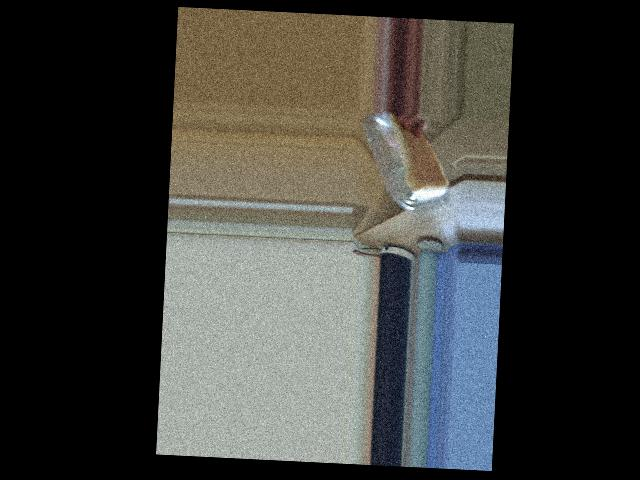cheese: (374, 146, 440, 203)
